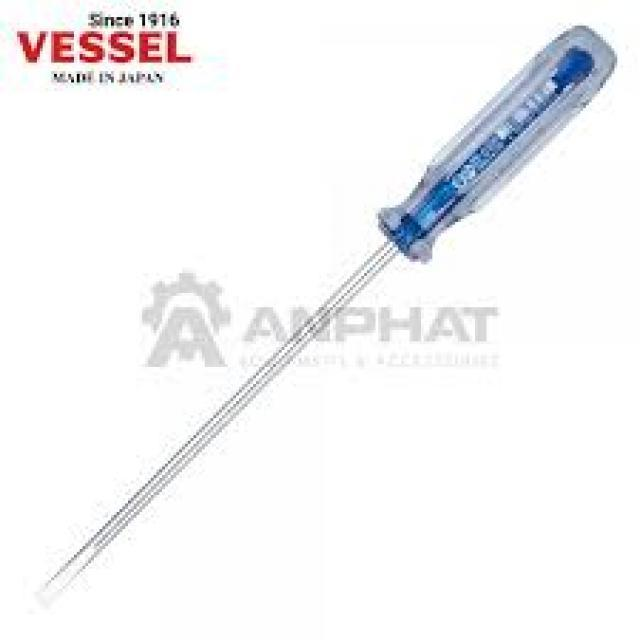screwdriver: (31, 22, 623, 608)
